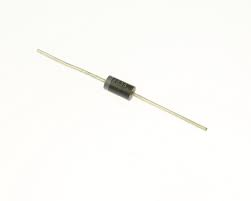diode: (90, 57, 166, 129)
